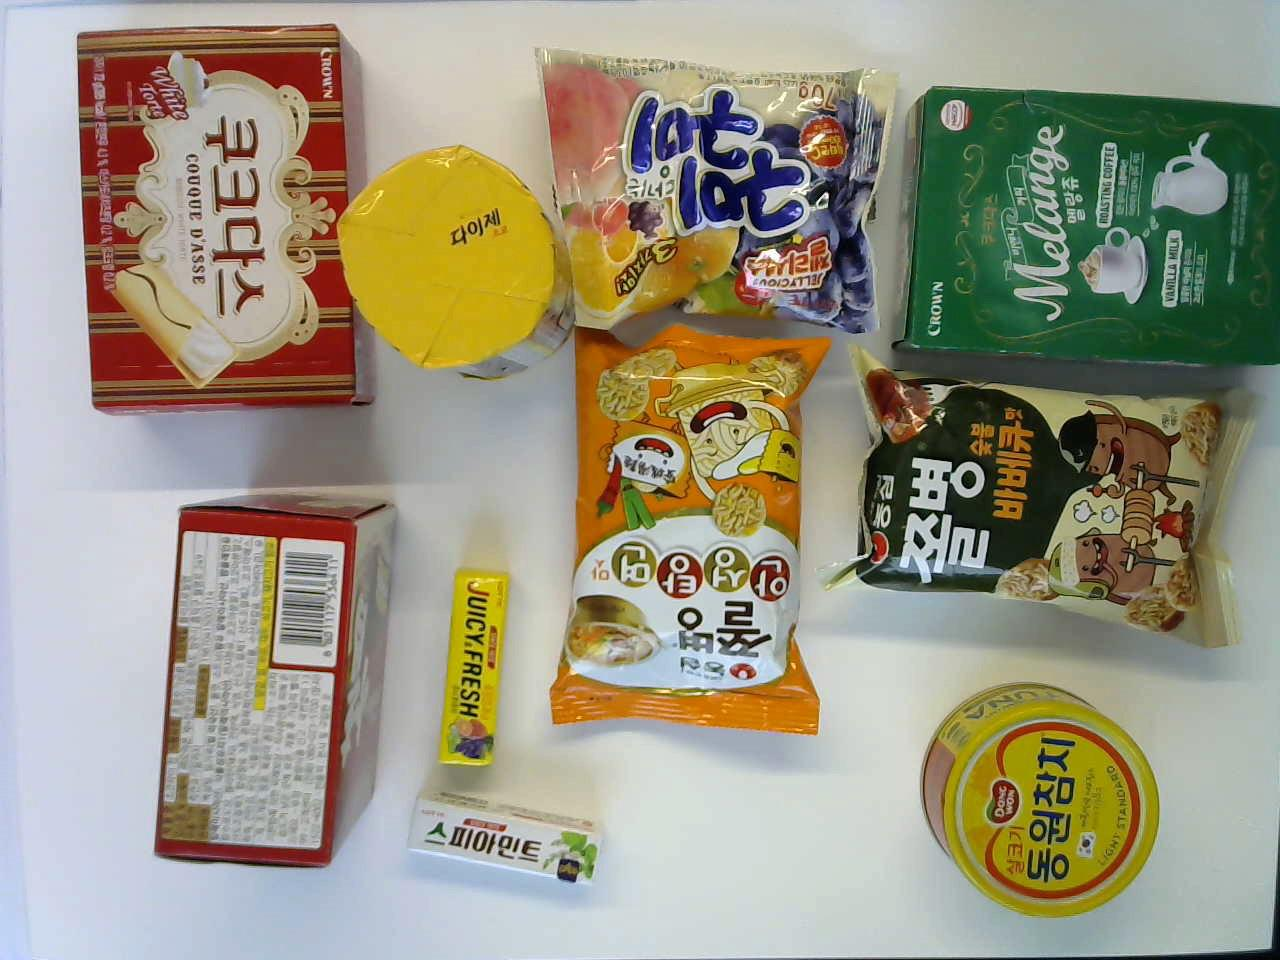chocopie: (146, 487, 395, 861)
couque_coffee: (884, 85, 1280, 364)
couque_white: (63, 13, 376, 415)
diget_choco: (342, 142, 583, 387)
gumi_gumi: (553, 50, 899, 319)
jjolbyung_noodle: (553, 326, 820, 739)
jjolbyung_ori: (834, 343, 1240, 652)
juicyfresh: (433, 565, 514, 764)
spearmint: (390, 788, 606, 888)
tuna: (919, 682, 1161, 917)
